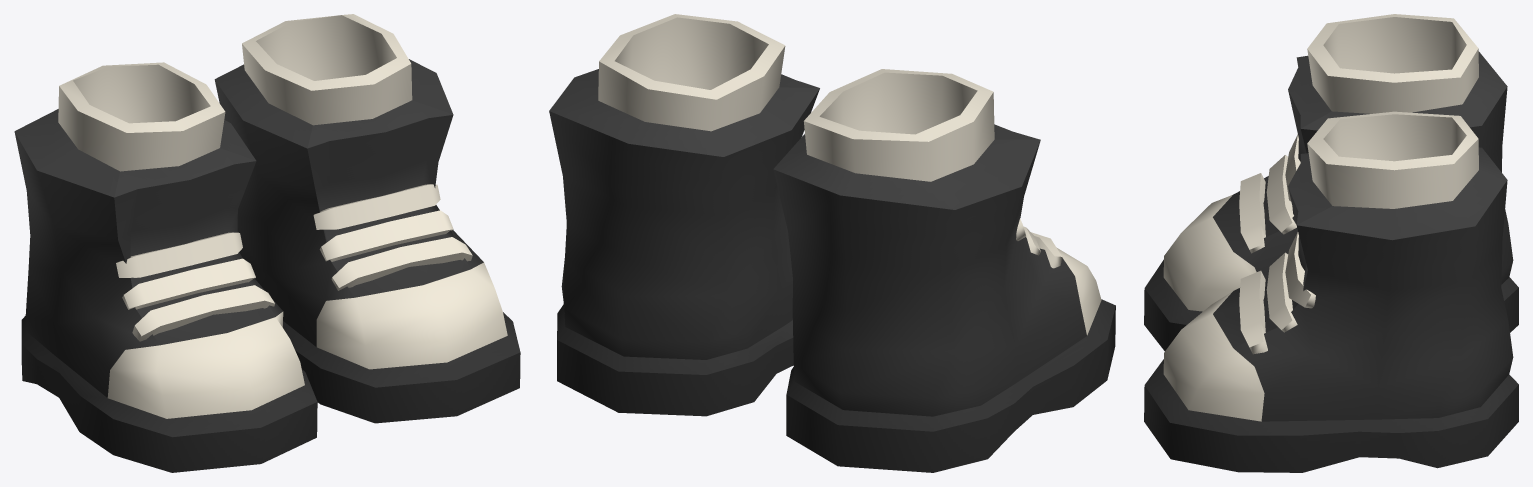
Rendered from Shoes_17.fbx.
3 views of the same model, side by side, from view 1: azimuth 30°, elevation 25°; view 2: azimuth 150°, elevation 25°; view 3: azimuth 270°, elevation 25° (orthographic). The views are drawn at different scales.
Visible parts, largest first — view 1: Shoes_17; view 2: Shoes_17; view 3: Shoes_17.
Boxes of the visible parts, <box> form: Shoes_17: <box>14,14,520,472</box>; Shoes_17: <box>549,14,1115,472</box>; Shoes_17: <box>1144,14,1518,472</box>.
Bounding box in the file's own units: 42.91 × 28.58 × 34.09.
